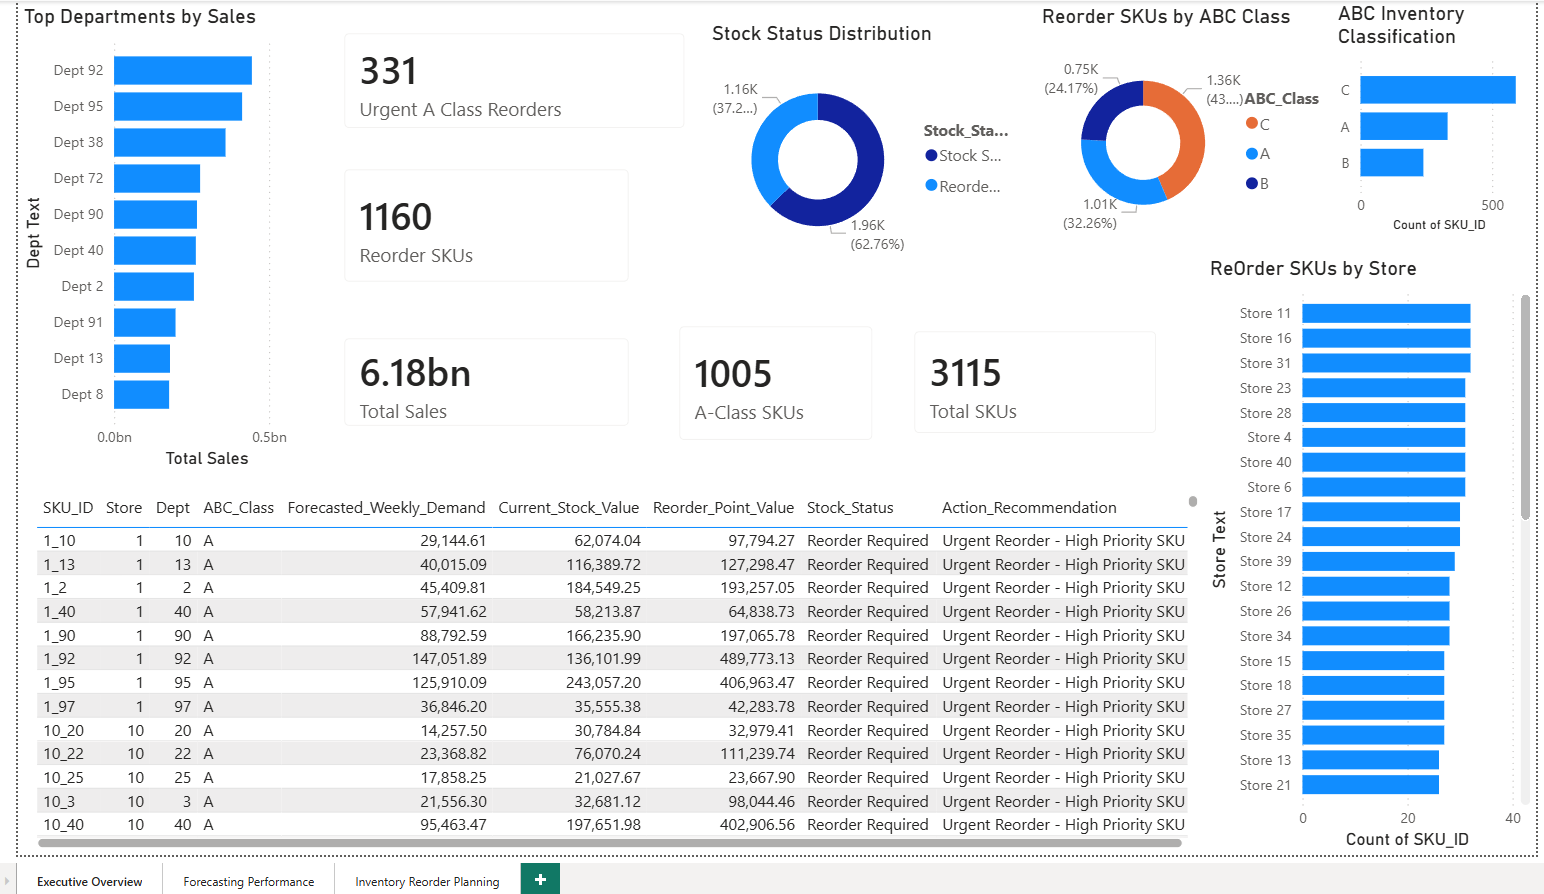

The dashboard page shown, as its layout file describes it:
{"tool":"powerbi","page":{"name":"Executive Overview","canvas":[1280,720],"ordinal":0},"visuals":[{"type":"cardVisual","fields":{"Data":["inventory_planning.Total Sales"]},"box":[257.8,267.5,274.3,108.9],"z":0},{"type":"cardVisual","fields":{"Data":["inventory_planning.Total SKUs Exact"]},"box":[738.2,261.6,238.3,120.6],"z":1000},{"type":"cardVisual","fields":{"Data":["inventory_planning.SKUs Requiring Reorder Exact"]},"box":[257.8,124.5,274.3,129.4],"z":2000},{"type":"cardVisual","fields":{"Data":["inventory_planning.A Class SKUs Exact"]},"box":[540.8,256.8,197.4,130.3],"z":3000},{"type":"cardVisual","fields":{"Data":["inventory_planning.Urgent A Class Reorders Exact"]},"box":[257.8,9.7,321.9,114.8],"z":4000},{"type":"donutChart","title":"Stock Status Distribution","fields":{"Category":["inventory_planning.Stock_Status"],"Y":["CountNonNull(inventory_planning.SKU_ID)"]},"box":[579.7,16.5,265.5,215],"z":5000},{"type":"donutChart","title":"Reorder SKUs by ABC Class","fields":{"Category":["inventory_planning.ABC_Class"],"Y":["CountNonNull(inventory_planning.SKU_ID)"]},"box":[857.9,2.9,262.6,215],"z":6000},{"type":"clusteredBarChart","title":"Top Departments by Sales","fields":{"Y":["inventory_planning.Total Sales"],"Category":["inventory_planning.Dept Text"]},"box":[0,2.9,257.8,395.9],"z":7000},{"type":"clusteredBarChart","title":"ReOrder SKUs by Store","fields":{"Category":["inventory_planning.Store Text"],"Y":["CountNonNull(inventory_planning.SKU_ID)"]},"box":[999.9,215,280.1,504.8],"z":8000},{"type":"clusteredBarChart","title":"ABC Inventory Classification","fields":{"Category":["inventory_planning.ABC_Class"],"Y":["CountNonNull(inventory_planning.SKU_ID)"]},"box":[1107.8,0,172.2,199.4],"z":9000},{"type":"tableEx","fields":{"Values":["inventory_planning.SKU_ID","inventory_planning.Store","inventory_planning.Dept","inventory_planning.ABC_Class","inventory_planning.Forecasted_Weekly_Demand","inventory_planning.Current_Stock_Value","inventory_planning.Reorder_Point_Value","inventory_planning.Stock_Status","inventory_planning.Action_Recommendation"]},"box":[9.7,411.4,990.2,308.3],"z":10000}]}

Visuals, with their boxes on the page's 1280x720 design canvas (x1, y1, x2, y2). These are canvas units, not pixel positions in the 1544x894 screenshot, which may show the page scaled, cropped or inside an application window:
cardVisual - inventory_planning.Total Sales: BBox(258, 268, 532, 376)
cardVisual - inventory_planning.Total SKUs Exact: BBox(738, 262, 976, 382)
cardVisual - inventory_planning.SKUs Requiring Reorder Exact: BBox(258, 124, 532, 254)
cardVisual - inventory_planning.A Class SKUs Exact: BBox(541, 257, 738, 387)
cardVisual - inventory_planning.Urgent A Class Reorders Exact: BBox(258, 10, 580, 124)
"Stock Status Distribution" donutChart: BBox(580, 16, 845, 232)
"Reorder SKUs by ABC Class" donutChart: BBox(858, 3, 1120, 218)
"Top Departments by Sales" clusteredBarChart: BBox(0, 3, 258, 399)
"ReOrder SKUs by Store" clusteredBarChart: BBox(1000, 215, 1280, 720)
"ABC Inventory Classification" clusteredBarChart: BBox(1108, 0, 1280, 199)
tableEx - inventory_planning.SKU_ID x inventory_planning.Store: BBox(10, 411, 1000, 720)
